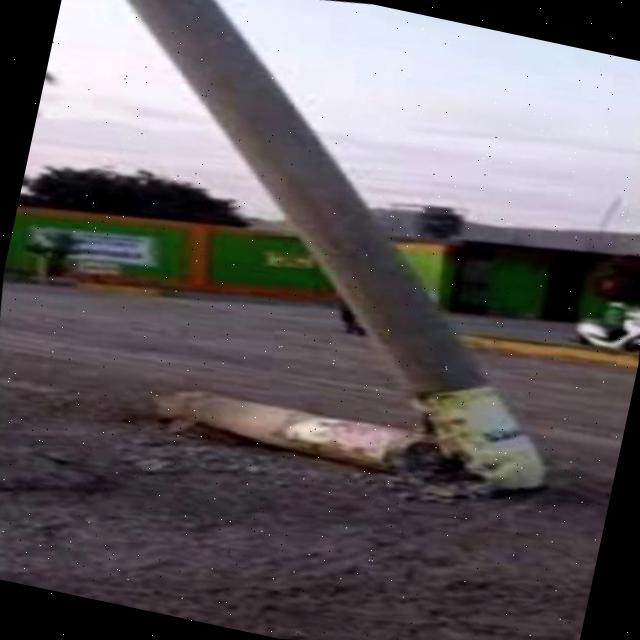Broken Pole: (127, 0, 551, 490)
